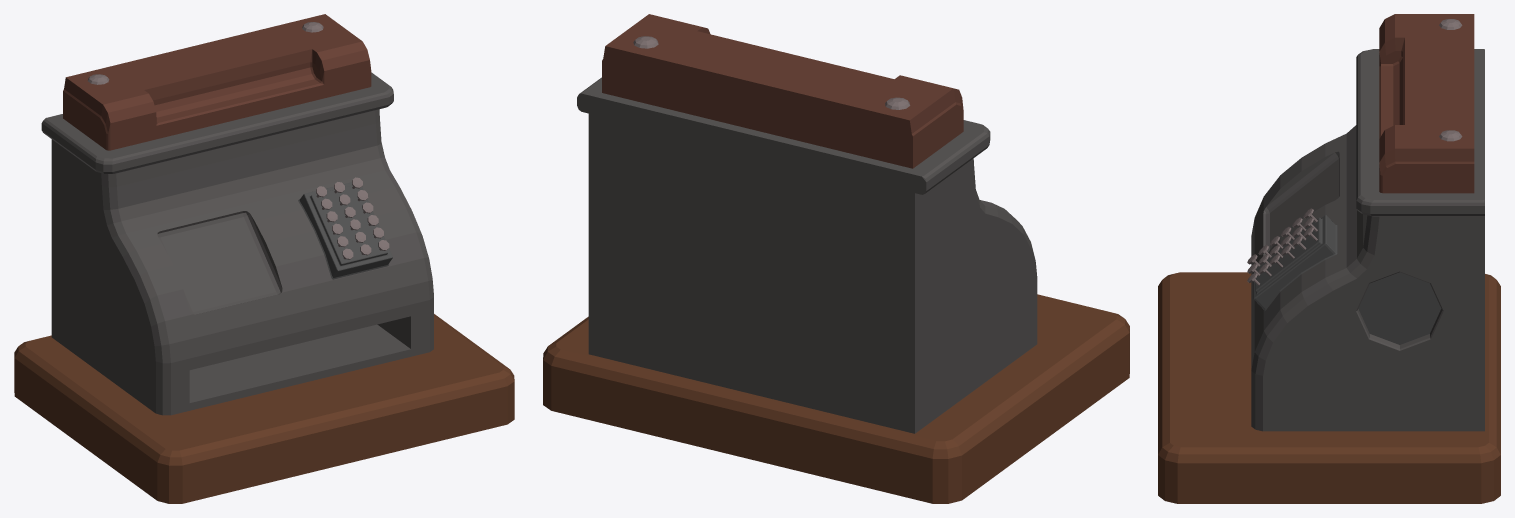
The model's file is CashRegister_body.fbx.
3 renders of one model, left to right at view 1: azimuth 30°, elevation 25°; view 2: azimuth 150°, elevation 25°; view 3: azimuth 270°, elevation 25°, orthographic. The views are drawn at different scales.
Visible parts, largest first — view 1: CashRegister_body; view 2: CashRegister_body; view 3: CashRegister_body.
Part boxes in pixels (box(x1,y1,x2,y2)): CashRegister_body: box(14, 14, 514, 503); CashRegister_body: box(543, 14, 1129, 503); CashRegister_body: box(1158, 14, 1500, 503).
Bounding box in the file's own units: 249 × 209 × 195.
